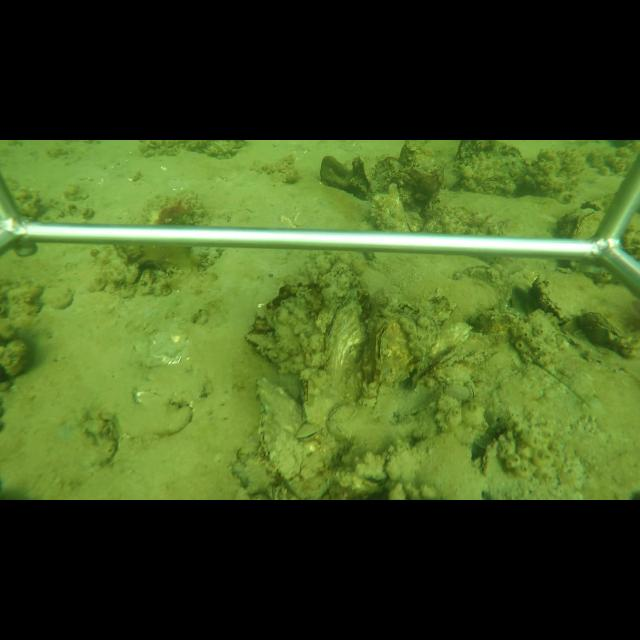Oyster-Closed: (297, 291, 369, 430), (254, 374, 330, 500), (392, 300, 442, 364)
Oyster-Open: (373, 317, 415, 382)
